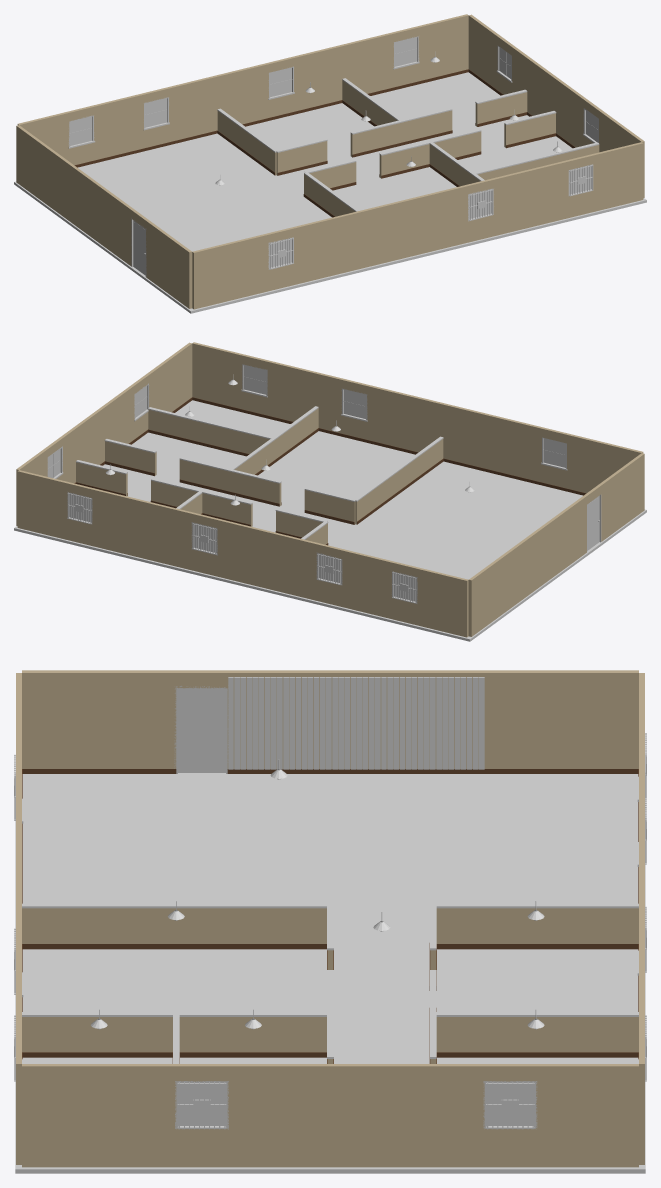
File: room-house3-parquet.glb
3 views of the same model, one above another, from view 1: azimuth 30°, elevation 25°; view 2: azimuth 150°, elevation 25°; view 3: azimuth 270°, elevation 25° (orthographic). The views are drawn at different scales.
Parts seen in each view (by area): view 1: floor, wall_front, wall_back, partition, wall_left, wall_right, room-house3-parquet, glass_wall_back, glass_wall_front, glass_wall_right; view 2: floor, wall_back, wall_front, partition, wall_left, wall_right, room-house3-parquet, glass_wall_back, glass_wall_front, glass_wall_right; view 3: floor, wall_right, partition, wall_left, accent_wall, room-house3-parquet, wall_back, wall_front, glass_wall_right.
Boxes of the visible parts, x1,y1,x2,y2 form: floor: [78, 72, 572, 251]; wall_front: [192, 142, 643, 309]; wall_back: [17, 14, 468, 167]; partition: [217, 78, 599, 217]; wall_left: [16, 125, 192, 308]; wall_right: [468, 14, 644, 198]; room-house3-parquet: [14, 52, 646, 313]; glass_wall_back: [70, 37, 416, 145]; glass_wall_front: [270, 166, 591, 267]; glass_wall_right: [499, 47, 597, 142]; floor: [103, 400, 582, 579]; wall_back: [17, 470, 468, 637]; wall_front: [192, 342, 643, 495]; partition: [76, 406, 443, 545]; wall_left: [468, 453, 644, 636]; wall_right: [16, 342, 192, 525]; room-house3-parquet: [14, 374, 646, 641]; glass_wall_back: [69, 494, 415, 601]; glass_wall_front: [244, 365, 565, 467]; glass_wall_right: [48, 386, 146, 477]; floor: [22, 774, 638, 1063]; wall_right: [22, 1064, 638, 1167]; partition: [22, 903, 638, 1063]; wall_left: [22, 670, 638, 773]; accent_wall: [228, 677, 484, 769]; room-house3-parquet: [15, 760, 645, 1173]; wall_back: [637, 673, 646, 1164]; wall_front: [14, 673, 23, 1164]; glass_wall_right: [178, 1084, 533, 1125].
Bounding box in the file's own units: 21.95 × 2.75 × 14.78.
